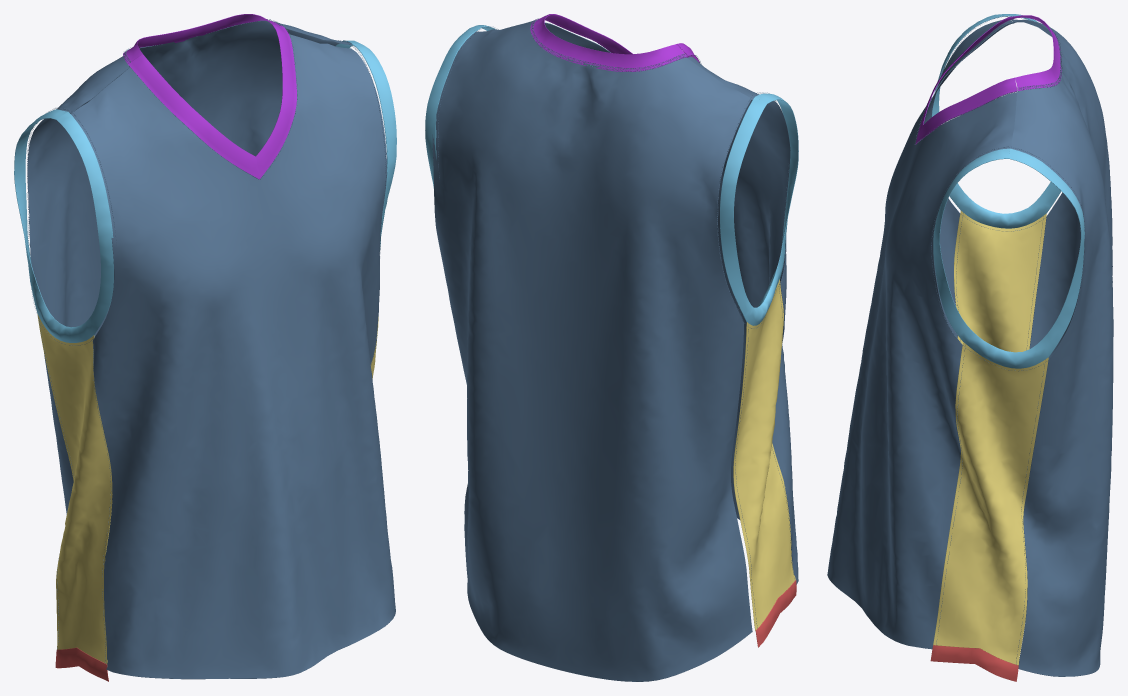
Rendered from JerseyTop.glb.
3 renders of one model, left to right at view 1: azimuth 30°, elevation 25°; view 2: azimuth 150°, elevation 25°; view 3: azimuth 270°, elevation 25°, orthographic. The views are drawn at different scales.
Parts seen in each view (by area): view 1: Jersey Top Stitching, Jersey Tiop Side Panels, Sleeve Panels, Collar, Jersey Top Lower Side Panels; view 2: Jersey Top Stitching, Jersey Tiop Side Panels, Sleeve Panels, Collar, Jersey Top Lower Side Panels; view 3: Jersey Top Stitching, Jersey Tiop Side Panels, Sleeve Panels, Collar, Jersey Top Lower Side Panels.
Part boxes in pixels (box(x1,y1,x2,y2)): Jersey Top Stitching: box(27, 19, 395, 679); Jersey Tiop Side Panels: box(37, 314, 378, 664); Sleeve Panels: box(14, 40, 396, 342); Collar: box(123, 14, 296, 179); Jersey Top Lower Side Panels: box(55, 647, 108, 681); Jersey Top Stitching: box(432, 18, 798, 681); Jersey Tiop Side Panels: box(733, 279, 795, 630); Sleeve Panels: box(425, 25, 798, 325); Collar: box(530, 14, 699, 71); Jersey Top Lower Side Panels: box(755, 580, 796, 647); Jersey Top Stitching: box(827, 15, 1113, 676); Jersey Tiop Side Panels: box(933, 211, 1048, 665); Sleeve Panels: box(931, 14, 1084, 368); Collar: box(915, 15, 1061, 144); Jersey Top Lower Side Panels: box(930, 645, 1018, 681).
Bounding box in the file's own units: 3.94 × 7.46 × 3.24.
